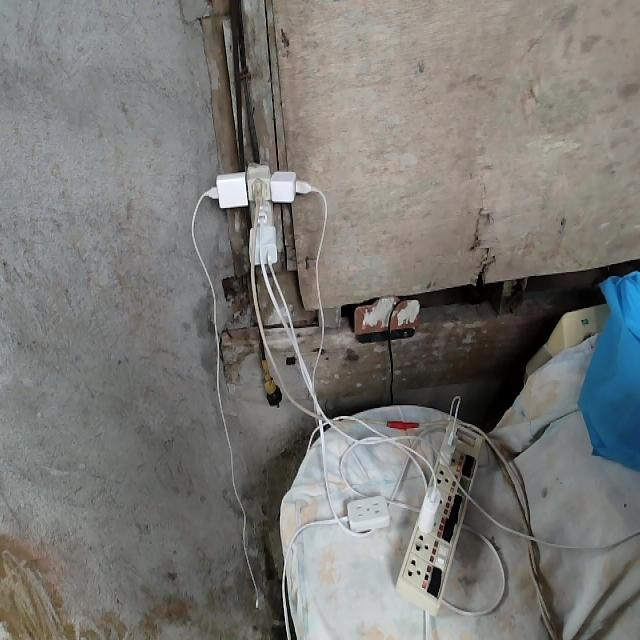-: (201, 157, 317, 272)
